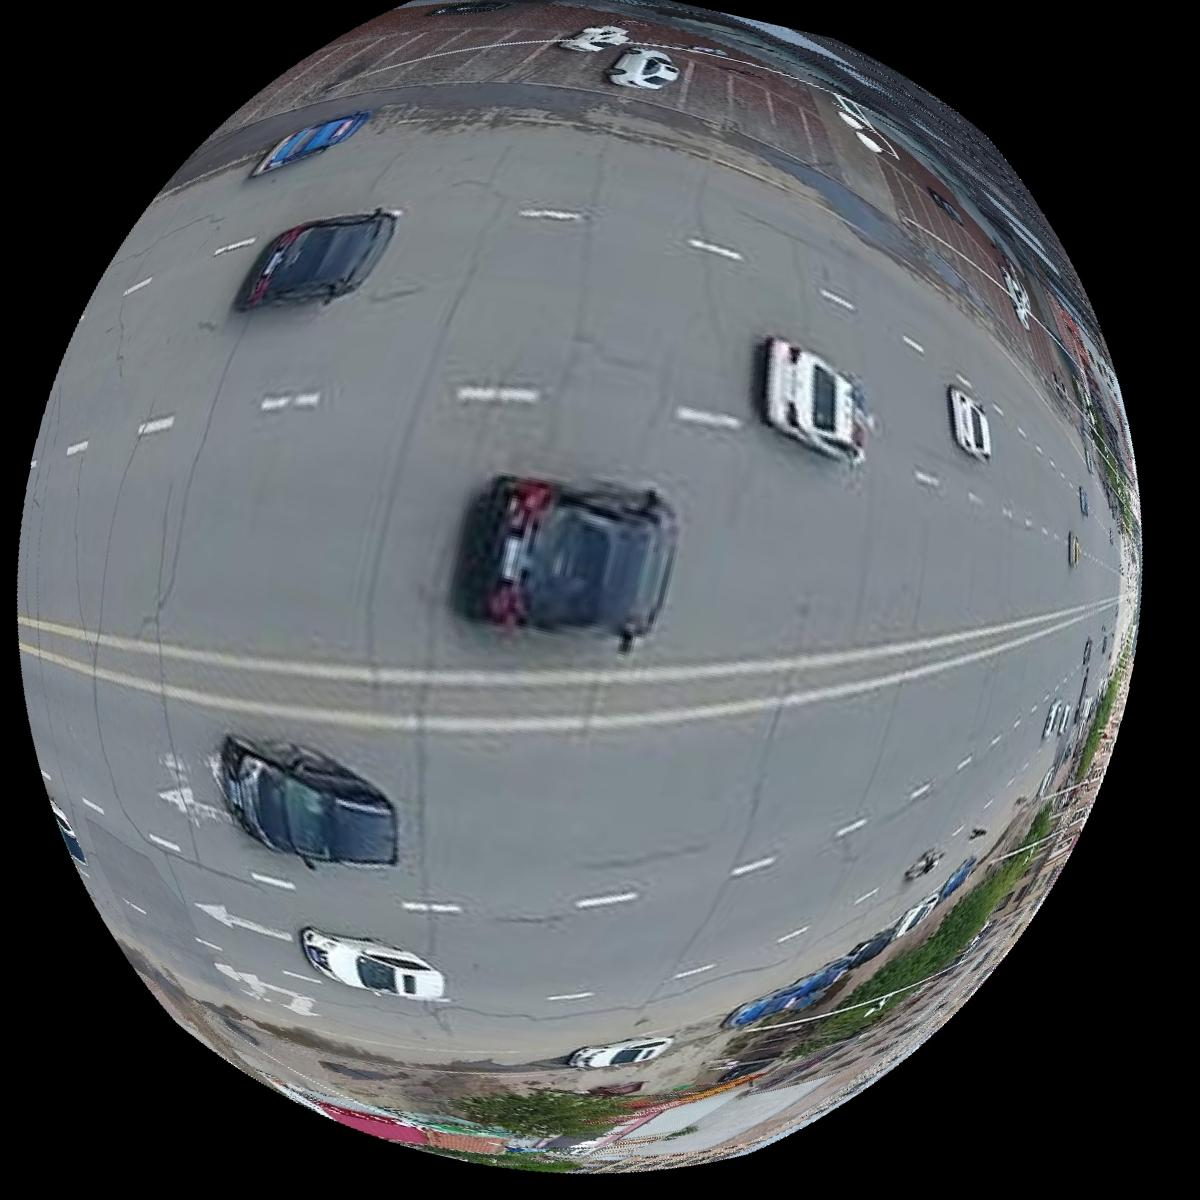cars: (455, 474, 678, 652), (220, 736, 396, 867), (233, 207, 397, 310), (763, 335, 874, 464), (300, 927, 444, 1001), (251, 109, 369, 175), (566, 1038, 671, 1070), (948, 385, 991, 459), (605, 44, 678, 88), (557, 21, 627, 49)
trees: (809, 887, 987, 1051), (448, 1090, 644, 1140)
